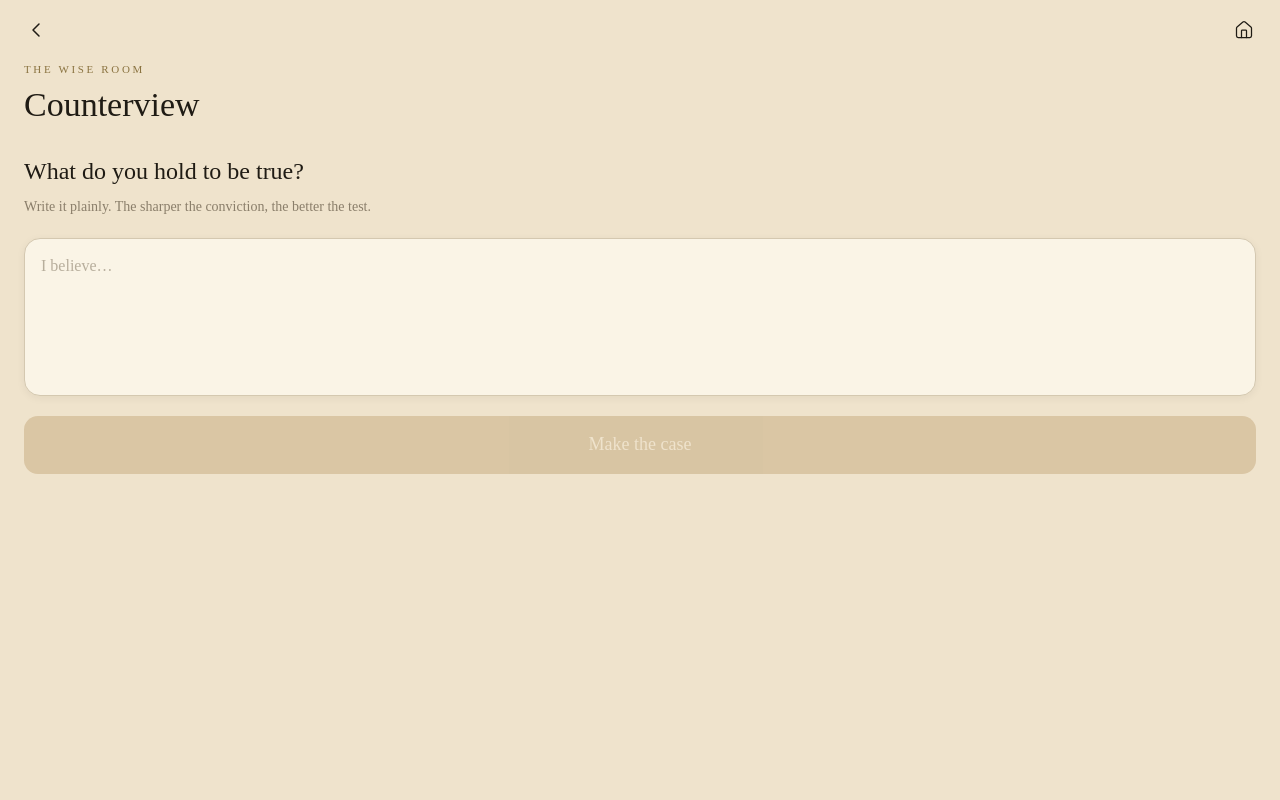
it: counterview at the FREE daily cap — unchanged › still shows the limit panel and its reset time
Step 1. Type "Ambition is always worth it." into the text box with placeholder "I believe…" → [640, 317], box [24,238,1256,396]
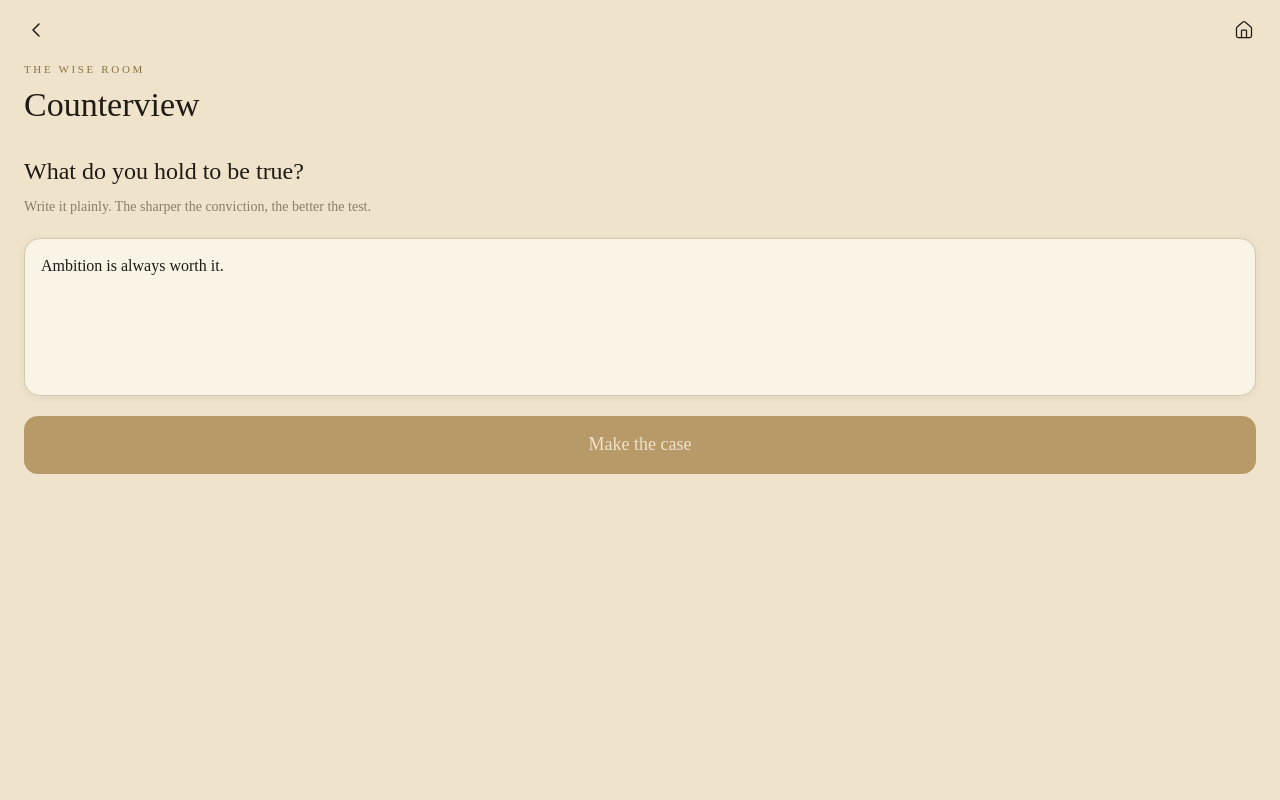
Step 2. Click the button "Make the case" → [640, 445], box [24,416,1256,474]
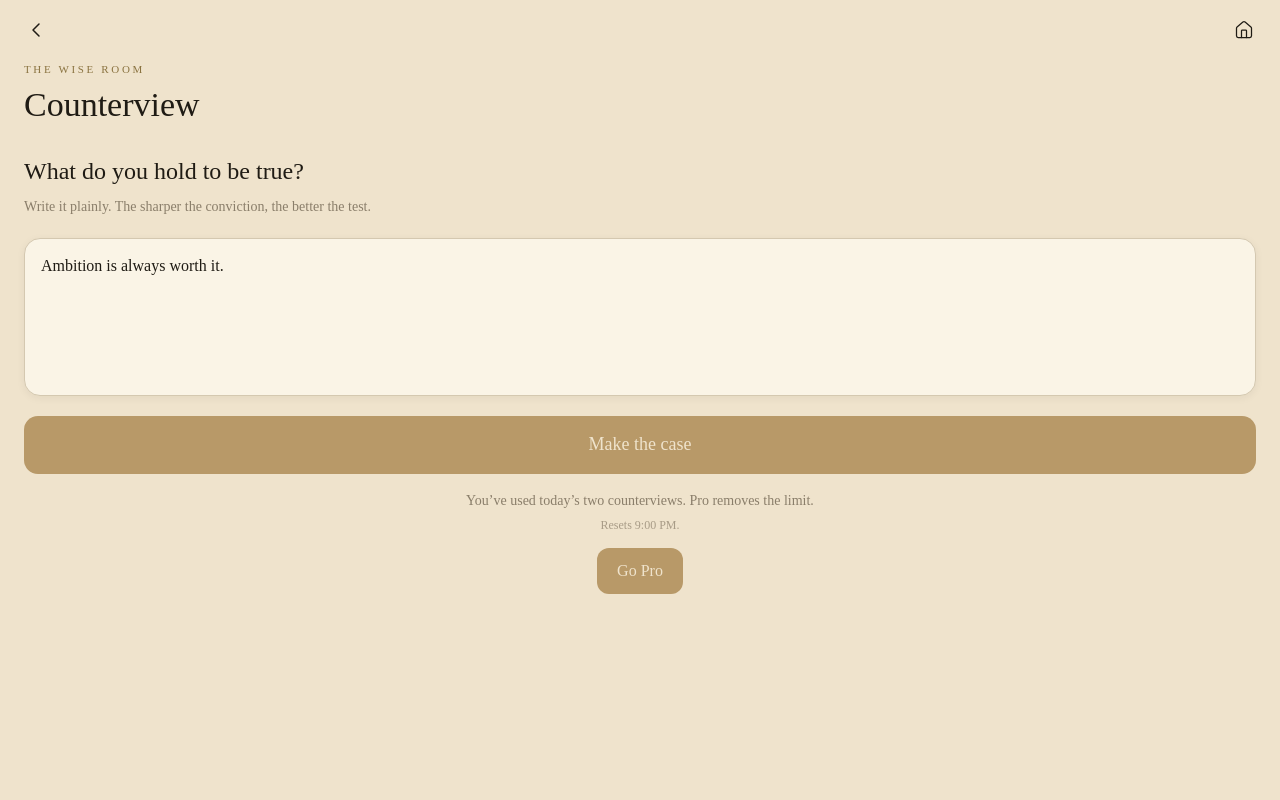
Result: the text "You’ve used today’s two counterviews. Pro removes the limit." is shown at [466,493,814,508]
Result: the text "Resets 9:00 PM." is shown at [600,518,680,532]
